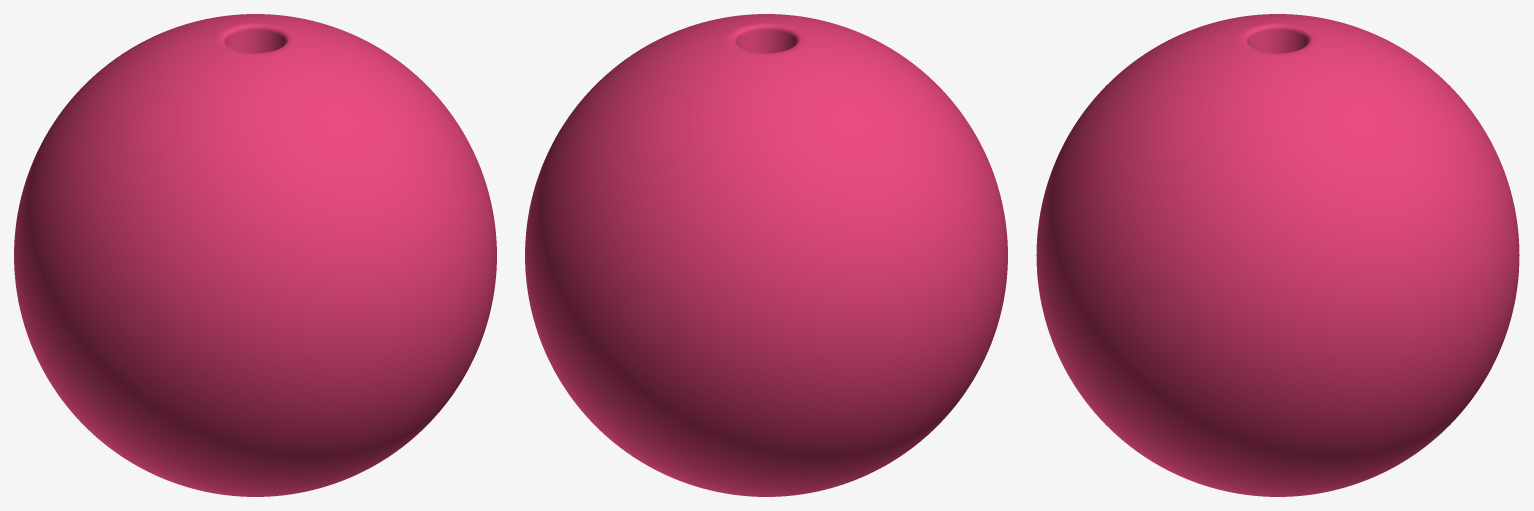
Rendered from ruby-clear-8mm.glb.
The picture shows the model from 3 angles, left to right: view 1: azimuth 30°, elevation 25°; view 2: azimuth 150°, elevation 25°; view 3: azimuth 270°, elevation 25°; orthographic projection.
Visible parts, largest first — view 1: 高透红宝石; view 2: 高透红宝石; view 3: 高透红宝石.
Part boxes in pixels (bbox=[...]): 高透红宝石: bbox=[14, 14, 496, 496]; 高透红宝石: bbox=[525, 14, 1007, 496]; 高透红宝石: bbox=[1036, 14, 1519, 496].
Bounding box in the file's own units: 0.008 × 0.00792 × 0.008.
